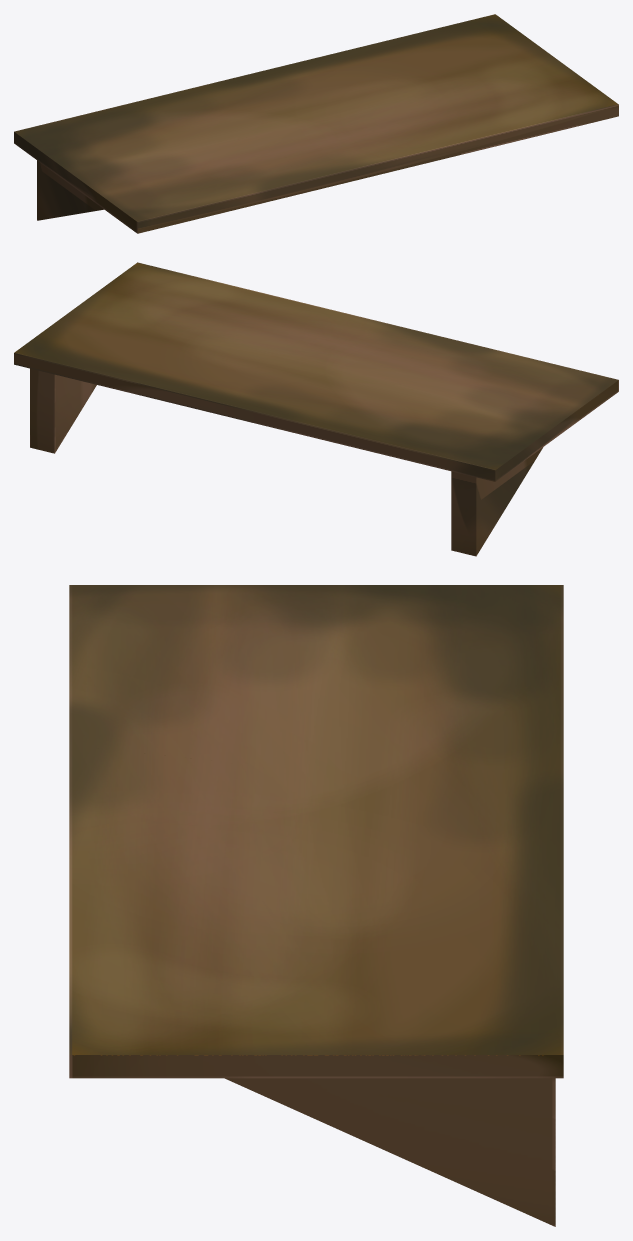
Rendered from estante_pintado.fbx.
3 views of the same model, one above another, from view 1: azimuth 30°, elevation 25°; view 2: azimuth 150°, elevation 25°; view 3: azimuth 270°, elevation 25° (orthographic). The views are drawn at different scales.
Visible parts, largest first — view 1: estante2; view 2: estante2; view 3: estante2.
Part boxes in pixels (x1,y1,x2,y2): estante2: [14, 14, 618, 233]; estante2: [14, 262, 618, 556]; estante2: [69, 585, 563, 1226].
Bounding box in the file's own units: 524 × 96.52 × 233.
1 material, 1 textured.
